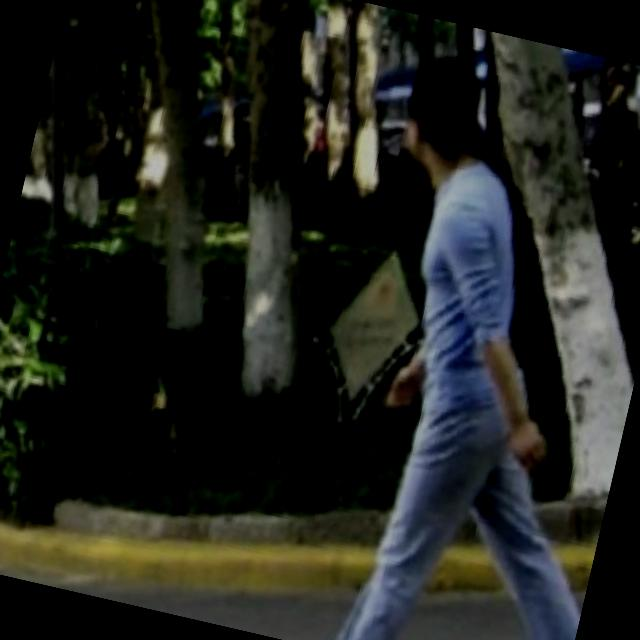Person: (265, 42, 640, 640)
